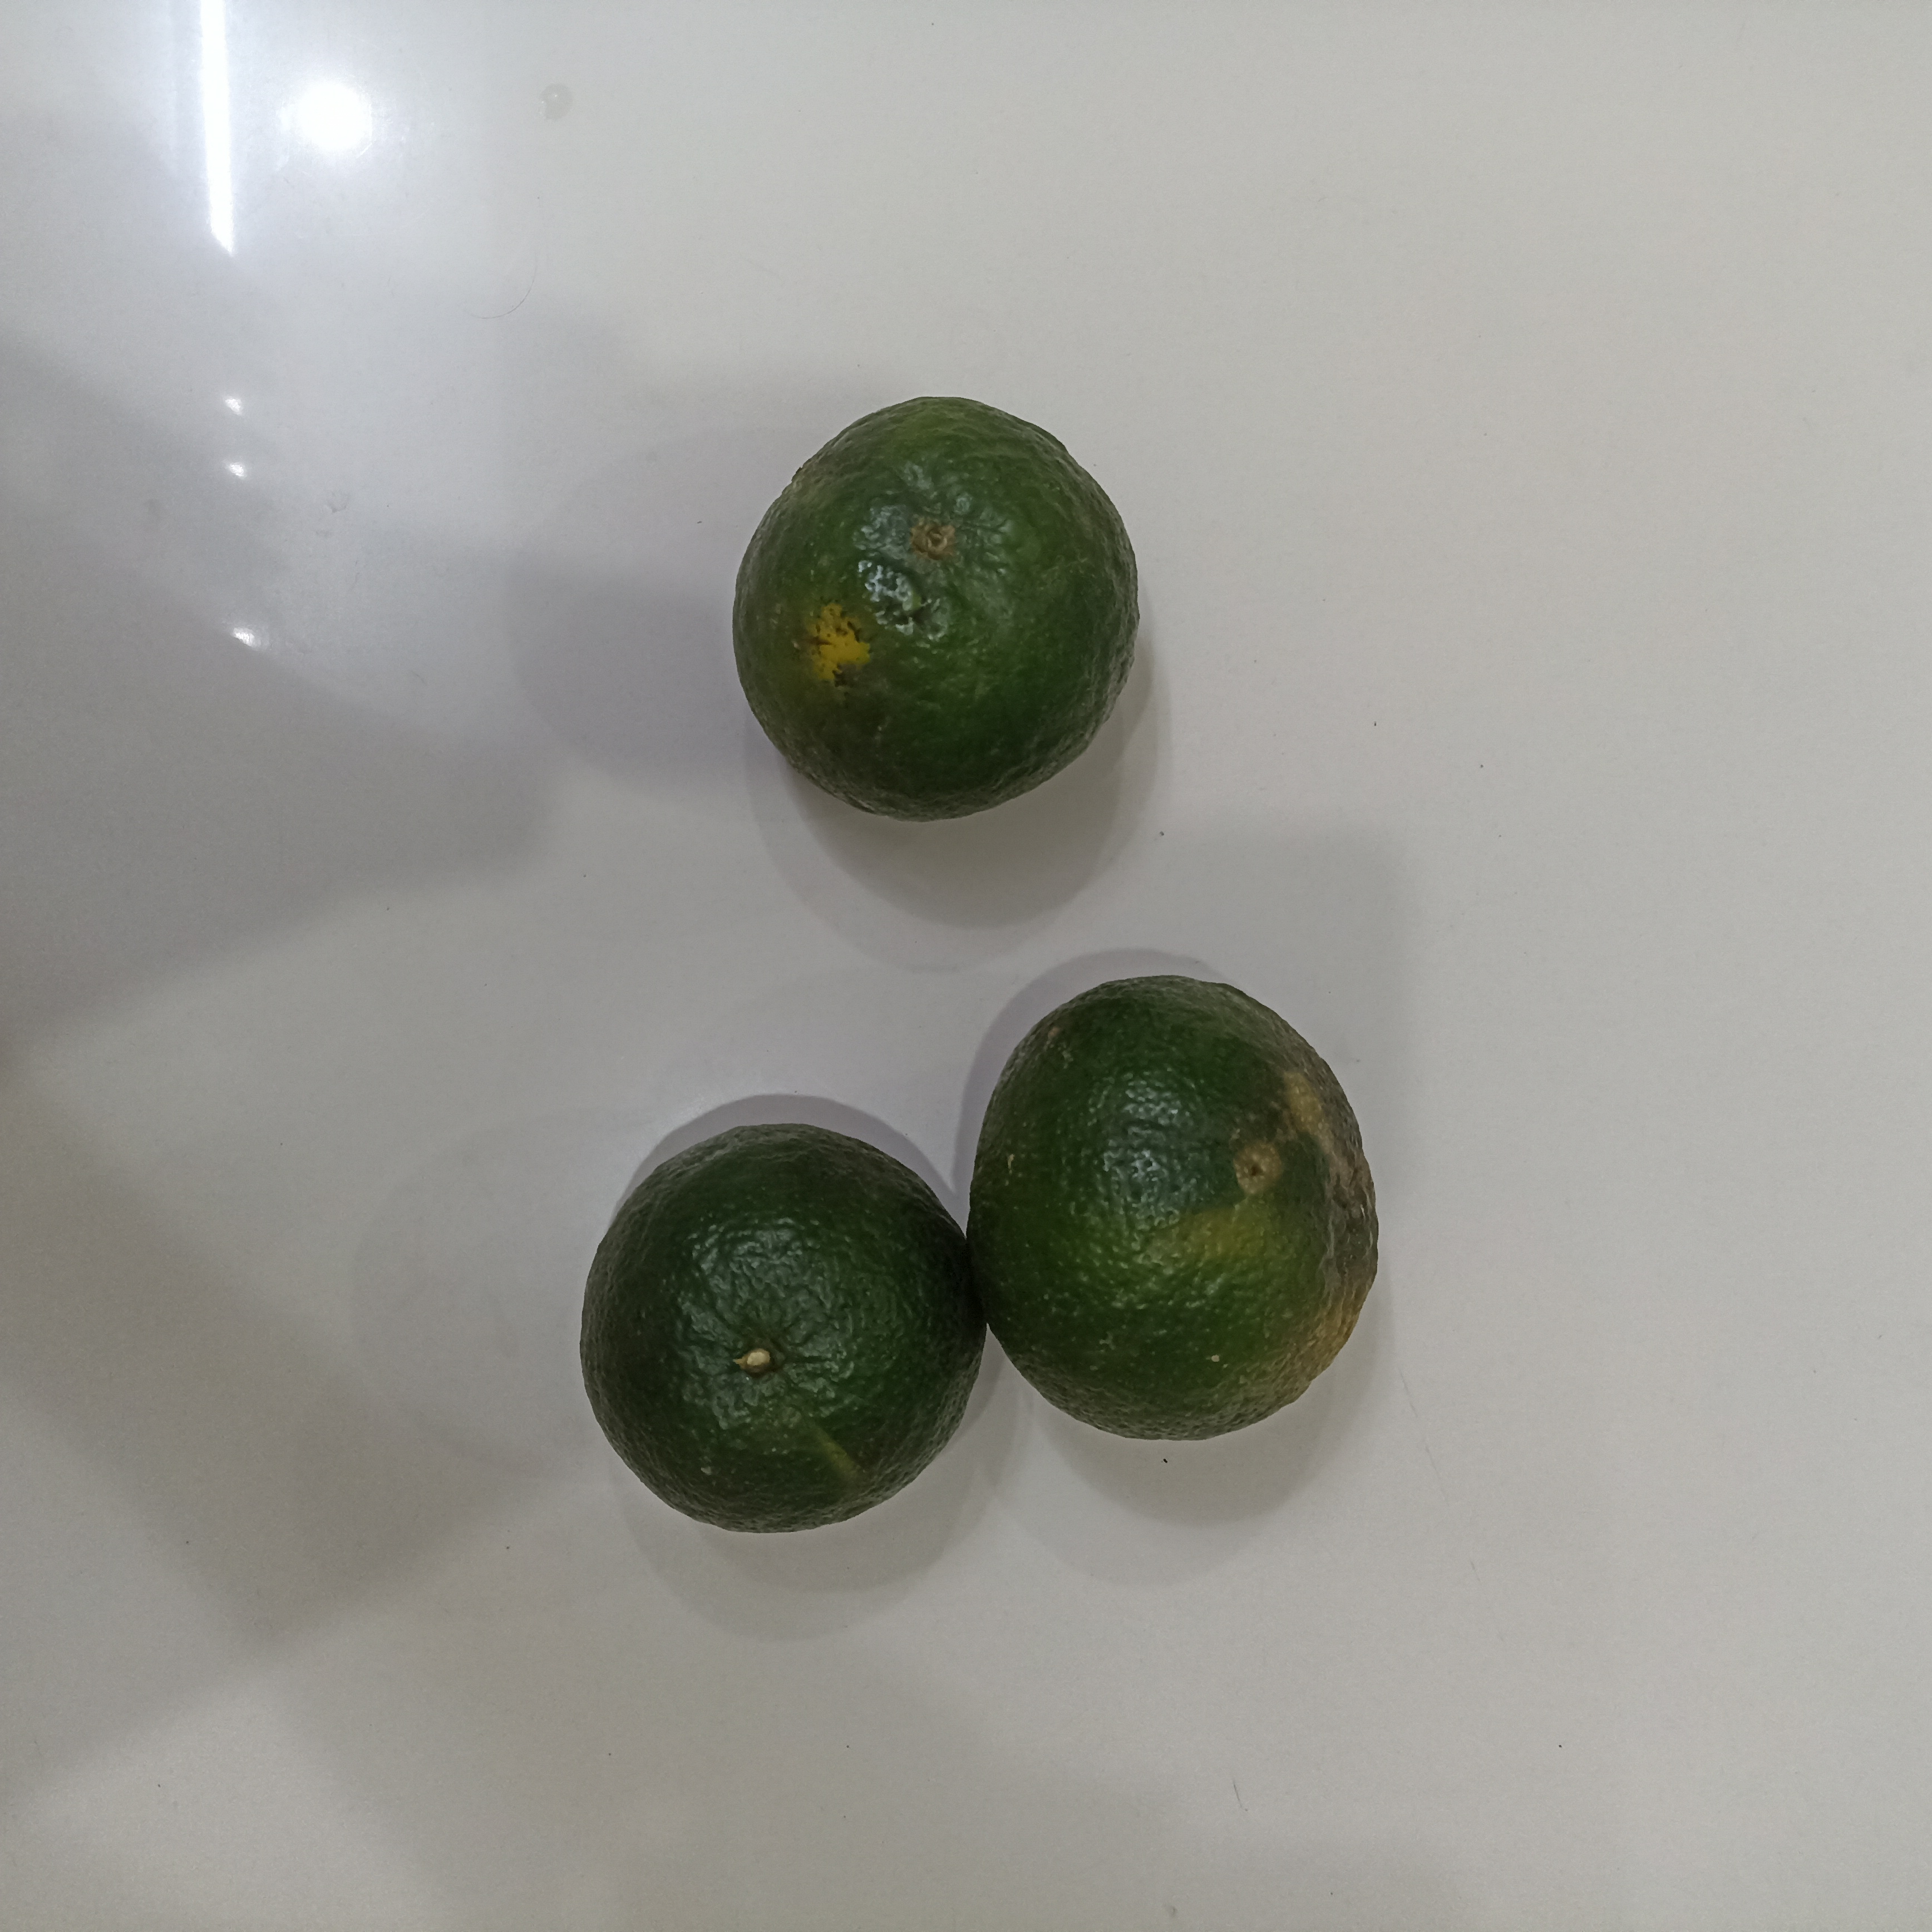Cam: (966, 978, 1379, 1443), (728, 400, 1139, 823), (579, 1119, 988, 1537)
